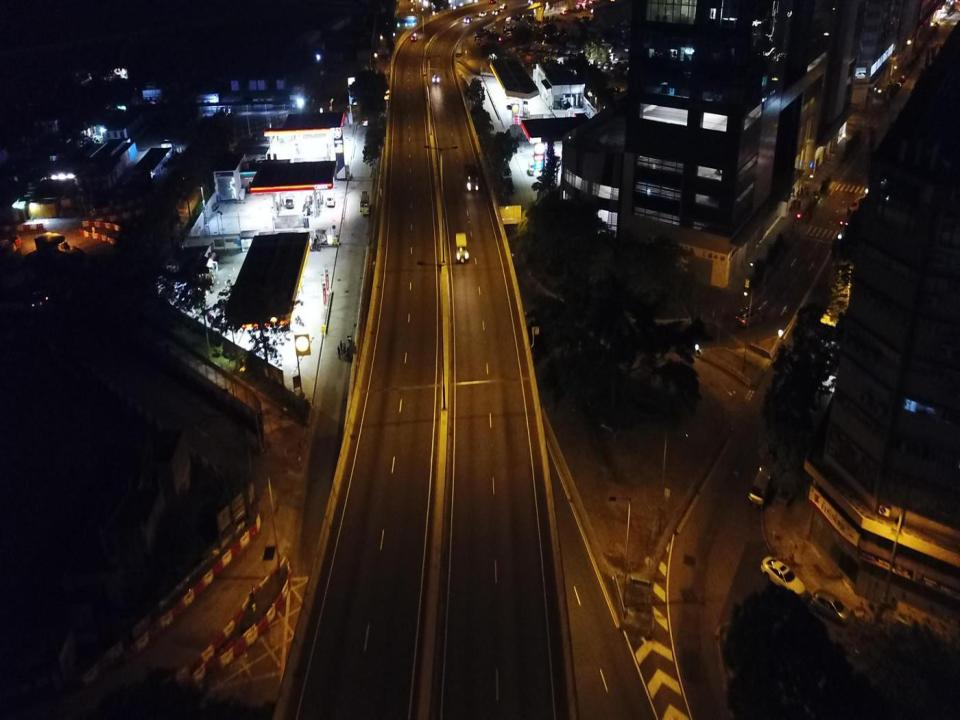car: (760, 558, 806, 600), (813, 588, 852, 625), (503, 178, 515, 196), (304, 195, 314, 204), (410, 32, 418, 41), (432, 73, 438, 84), (464, 16, 472, 23), (478, 11, 486, 17), (493, 9, 501, 15), (500, 4, 508, 9), (489, 0, 496, 4)
truck: (851, 196, 893, 216), (464, 163, 480, 192), (455, 232, 468, 262)
van: (749, 464, 775, 510), (737, 309, 763, 326), (499, 159, 512, 181), (359, 190, 370, 215), (326, 189, 336, 208), (285, 193, 295, 208), (528, 161, 538, 175), (302, 202, 312, 215), (362, 112, 370, 126)
